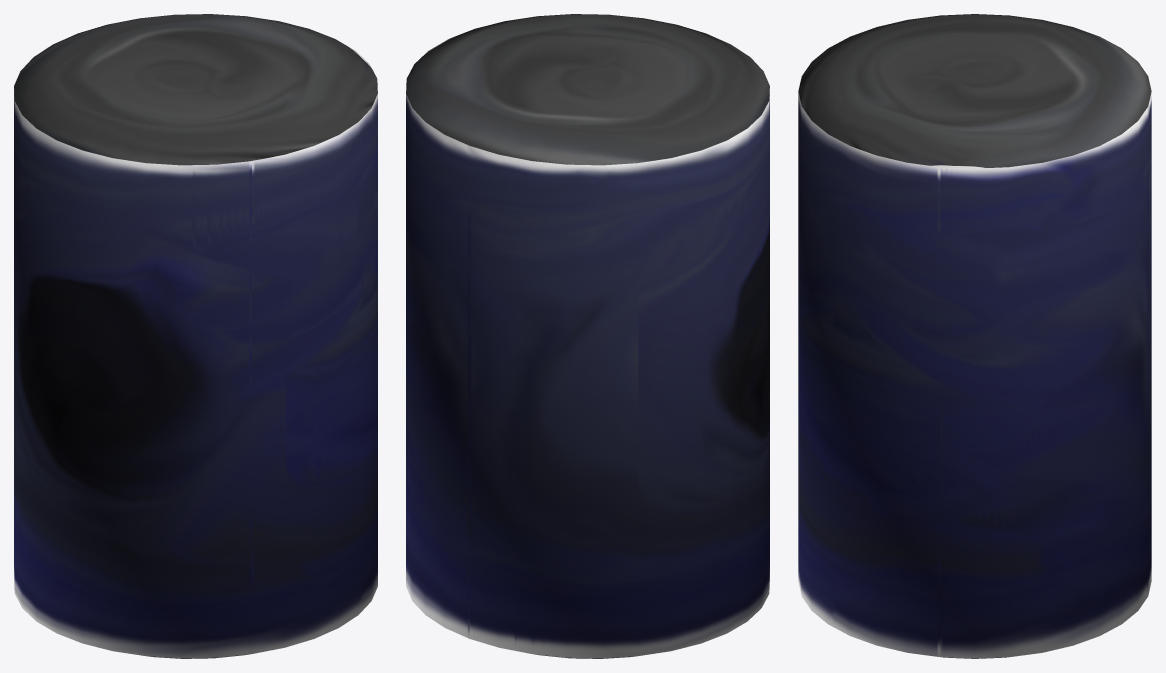
The model's file is SodaCan.fbx.
3 renders of one model, left to right at view 1: azimuth 30°, elevation 25°; view 2: azimuth 150°, elevation 25°; view 3: azimuth 270°, elevation 25°, orthographic.
Visible parts, largest first — view 1: SodaCan; view 2: SodaCan; view 3: SodaCan.
Part boxes in pixels (x1,y1,x2,y2): SodaCan: (14, 14, 377, 658); SodaCan: (406, 14, 769, 658); SodaCan: (798, 14, 1151, 658).
Size of the model in its own units: 24.39 by 37.88 by 23.54.
Materials: 1 (1 with a texture image).
